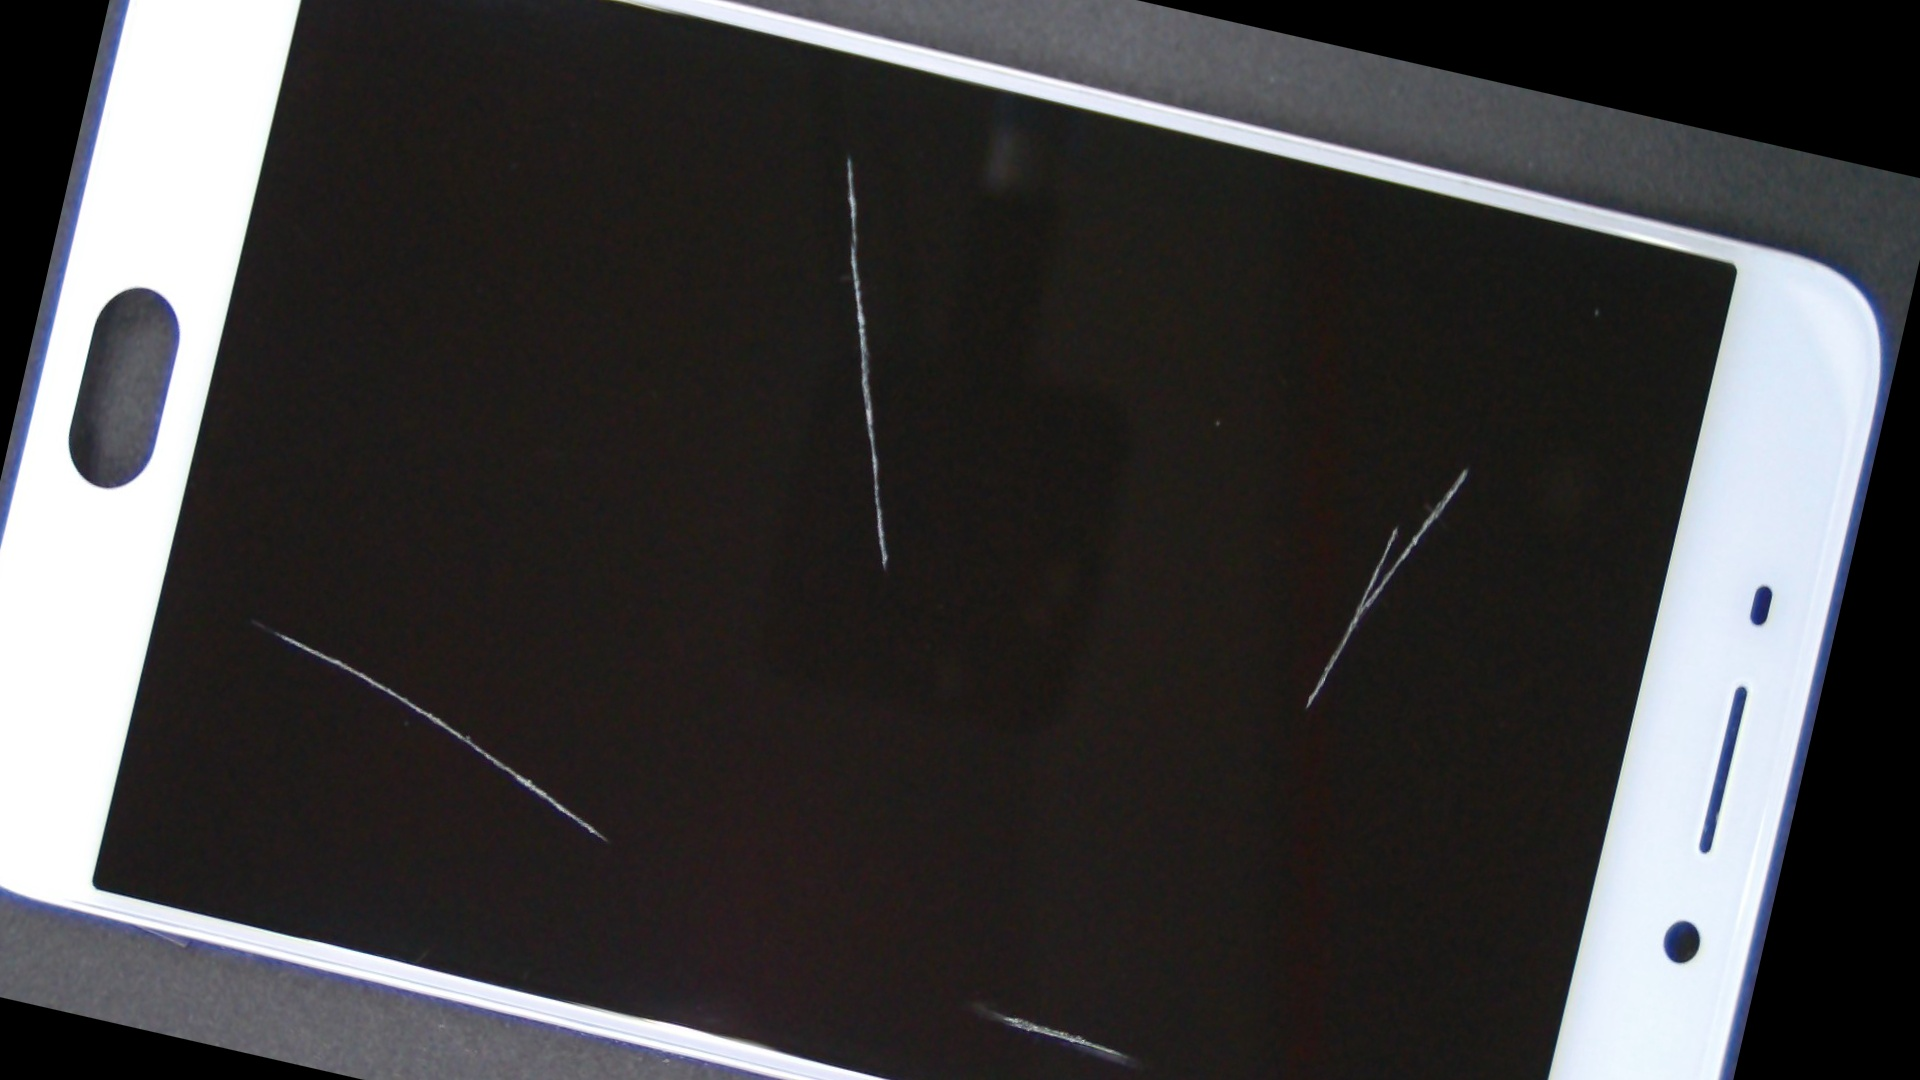oil: (406, 388, 1611, 1080), (728, 121, 1895, 744), (29, 198, 476, 1040), (458, 0, 1242, 345)
